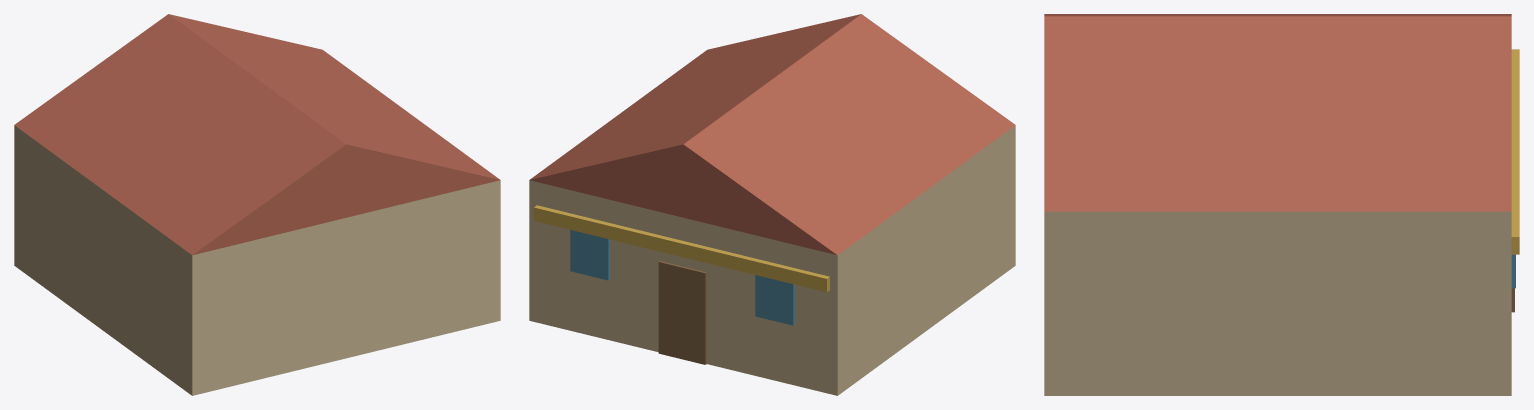
The model's file is market.glb.
3 views of the same model, side by side, from view 1: azimuth 30°, elevation 25°; view 2: azimuth 150°, elevation 25°; view 3: azimuth 270°, elevation 25° (orthographic). The views are drawn at different scales.
Size of the model in its own units: 5.28 by 3.5 by 5.37.
